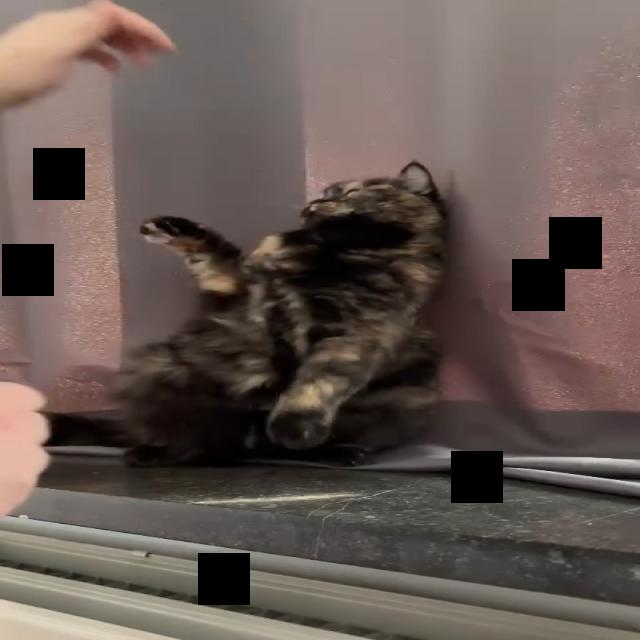authorized: (109, 159, 451, 468)
